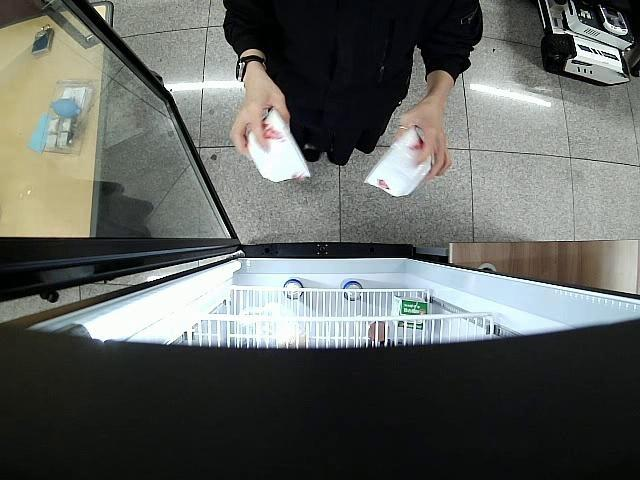09_yukGaeJang: (363, 126, 432, 198), (245, 106, 310, 182)
